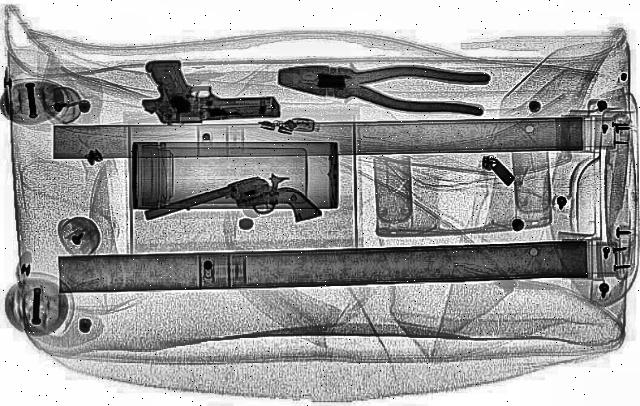Gun: (137, 168, 323, 260), (134, 56, 280, 126)
Pliers: (270, 55, 492, 121)
